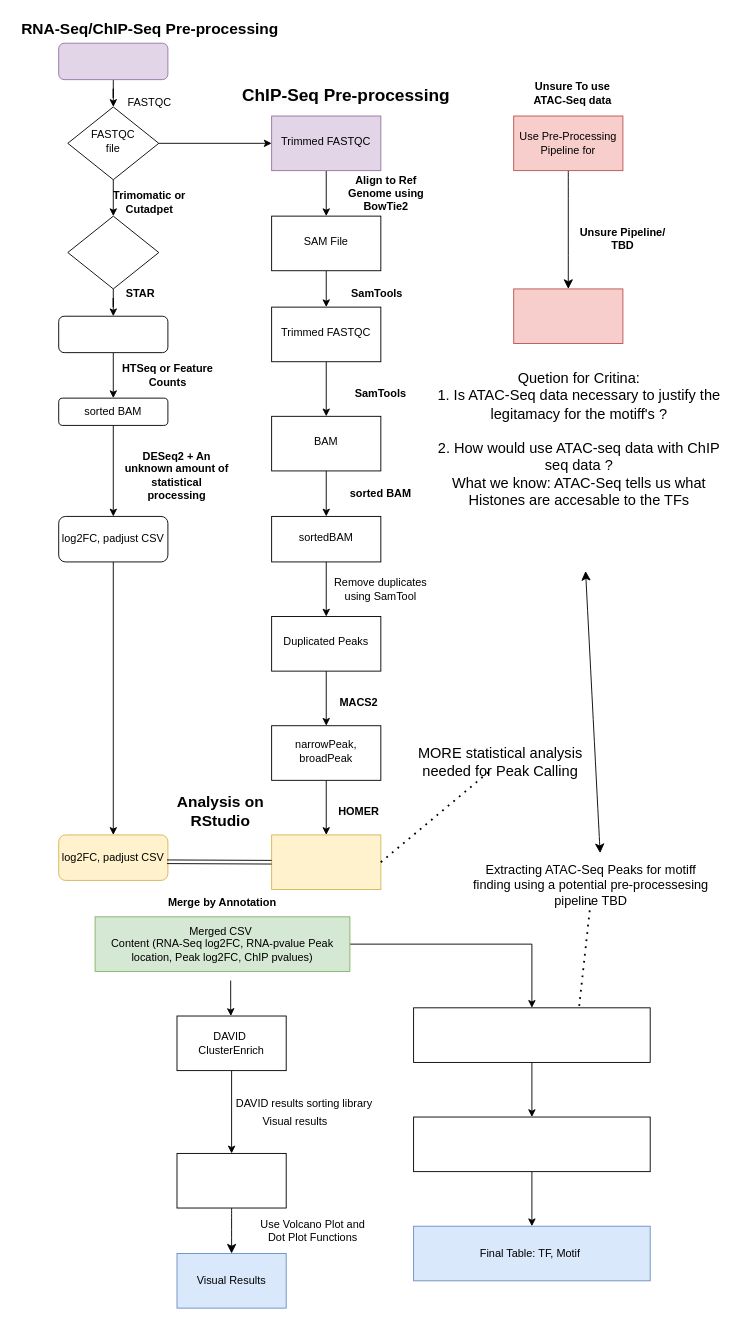
The diagram is 739 pixels wide and 1324 high, and some of its shapes have lost their labels. Here are the shapes that lost their labels. From the top down, the centre of each, then its label:
At (113,61): "FASTA".
At (113,252): "Paired Fwd Paired Rev".
At (113,334): "BAM file".
At (568,316): "Ultimate Goal: To use ATAC-Seq data to confirm TF locations".
At (326,862): "Annotated Peaks CSV".
At (531,1034): "Use Granges, Mus Musculus Ref file, or GTF to find motifs of TFs".
At (531,1144): "Motif visualization using my own Motiff finding package".
At (231,1180): "GSEA results".
